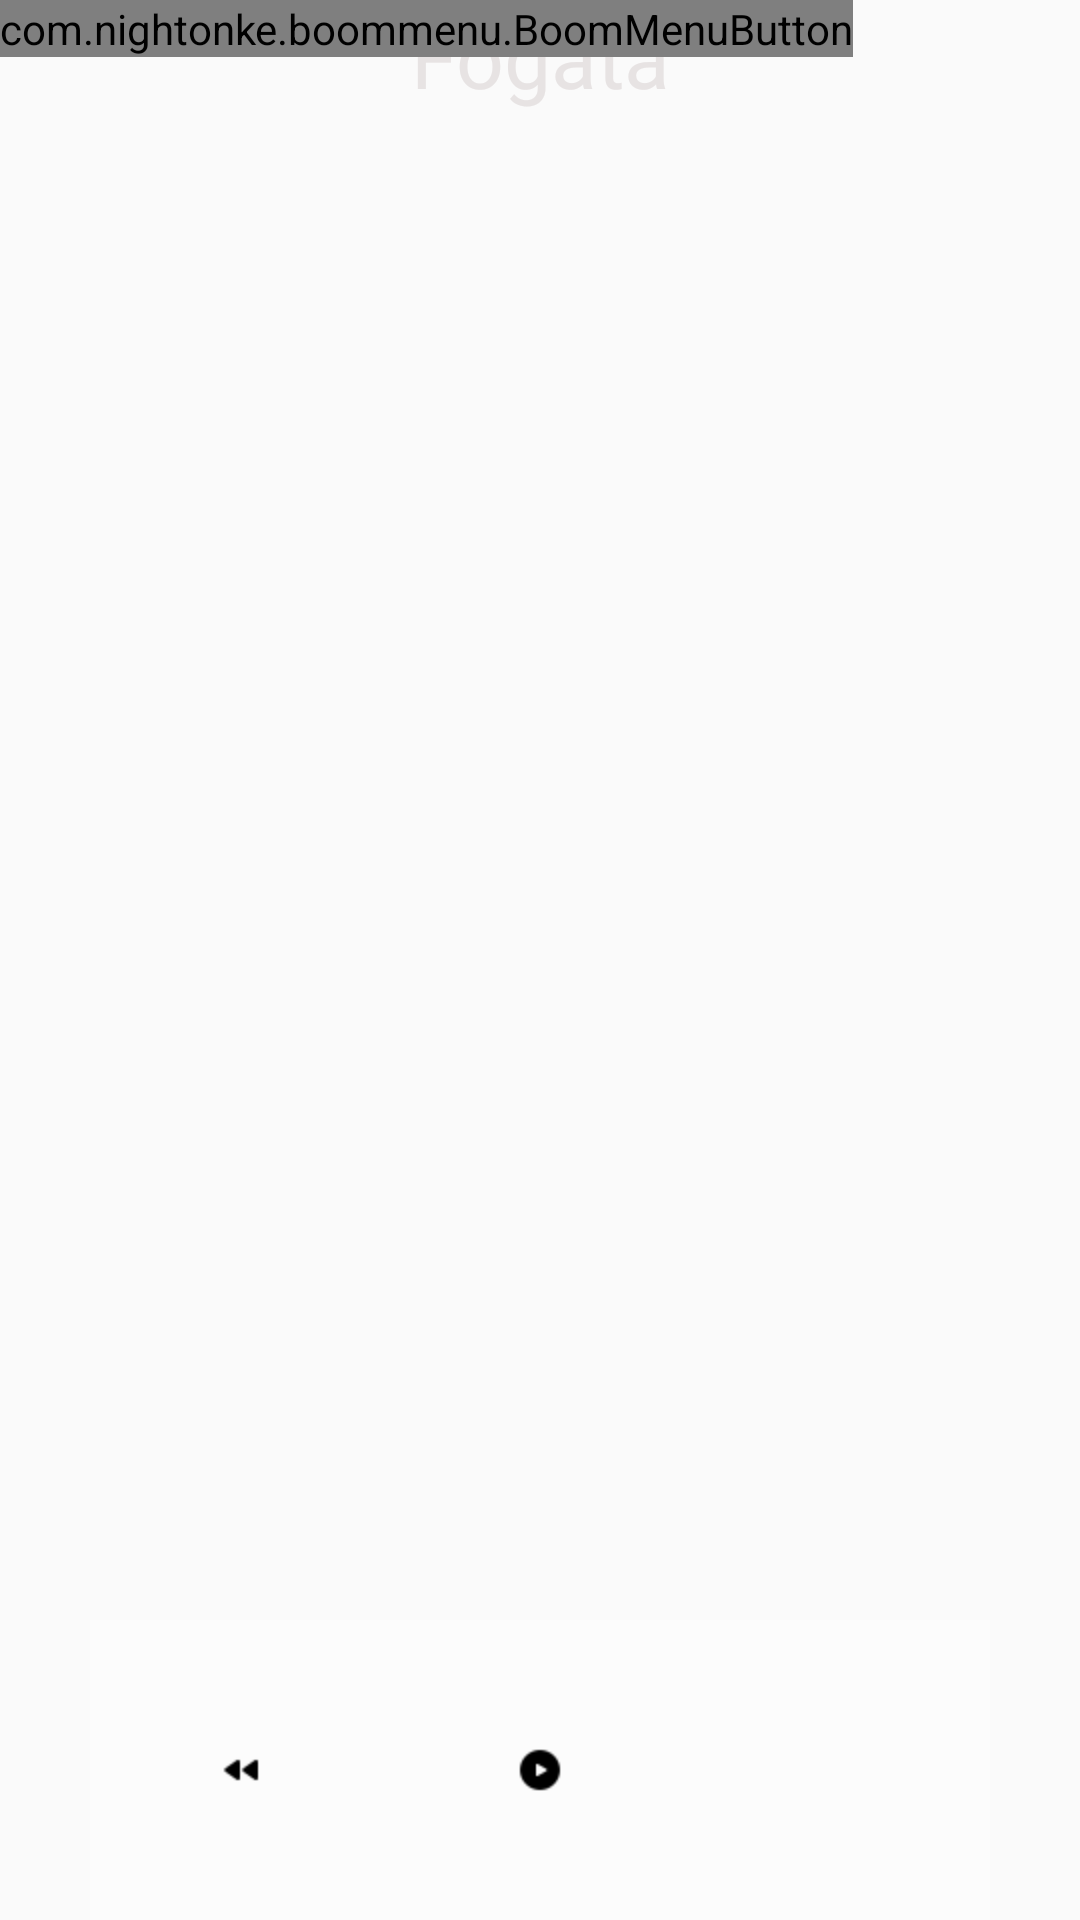

Icon bounding boxes for this 1080×1920 phone screenshot, format (x1, y1, x2, y2):
backicon: (223, 1759, 259, 1781)
playicon: (519, 1749, 561, 1791)
